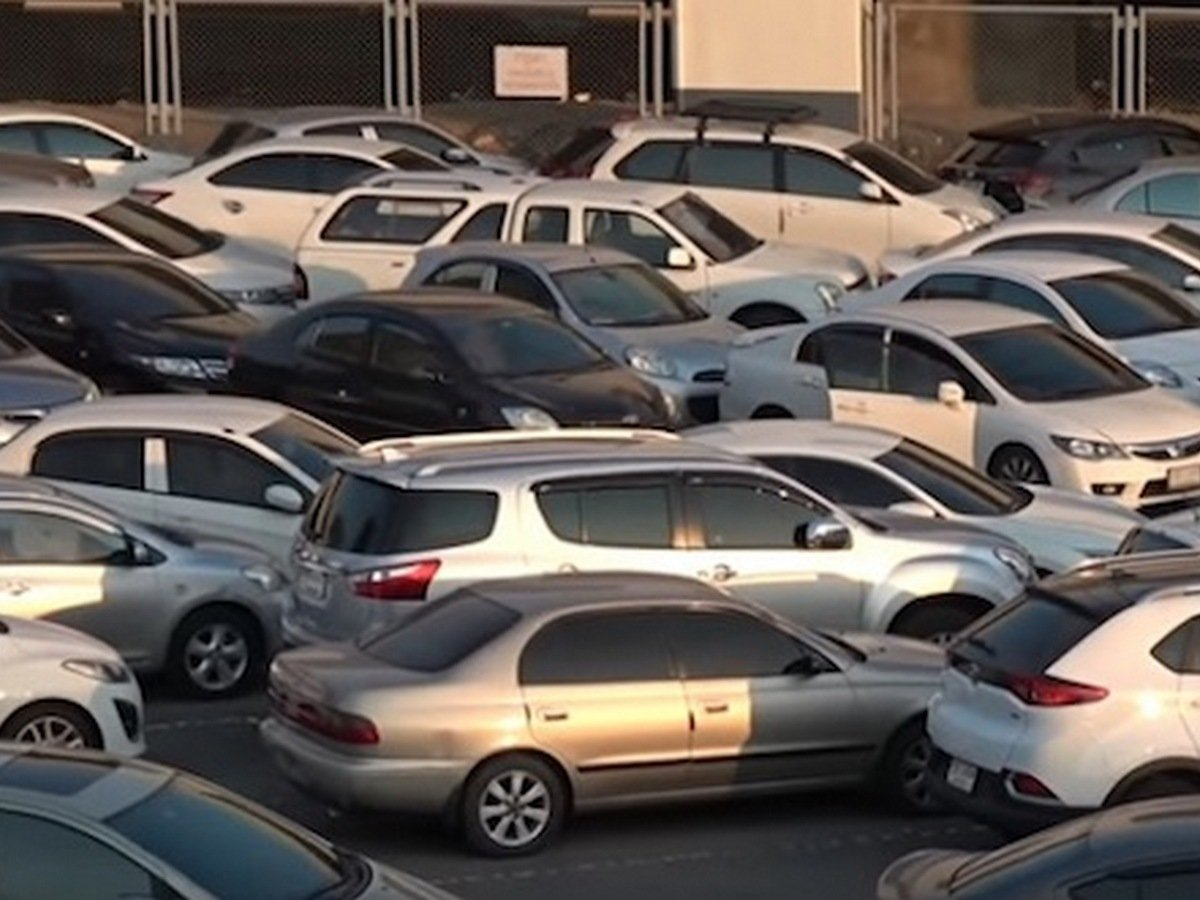Car: (259, 570, 944, 857), (283, 428, 1037, 645), (717, 299, 1200, 513), (293, 170, 873, 329), (926, 549, 1200, 832), (681, 416, 1150, 574), (0, 739, 459, 900), (229, 288, 685, 439), (591, 97, 998, 265), (0, 473, 285, 699), (402, 242, 747, 424), (0, 395, 359, 558), (837, 252, 1200, 404), (0, 179, 296, 322), (0, 242, 257, 392), (131, 137, 450, 255), (876, 796, 1200, 900), (873, 209, 1200, 306), (938, 111, 1200, 211), (198, 107, 533, 175), (0, 609, 146, 757), (0, 106, 195, 194), (0, 319, 101, 446), (1039, 156, 1200, 222), (536, 114, 633, 179), (1116, 507, 1200, 554), (0, 150, 96, 188)
